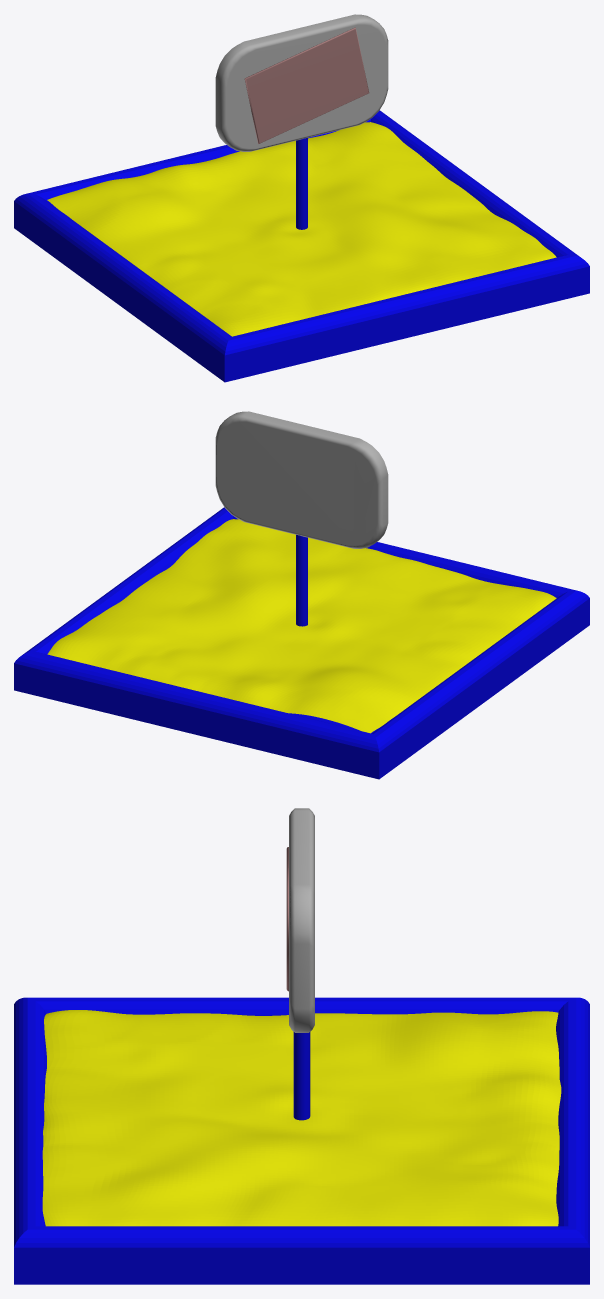
The model's file is Purchase_Bed 1.fbx.
3 views of the same model, one above another, from view 1: azimuth 30°, elevation 25°; view 2: azimuth 150°, elevation 25°; view 3: azimuth 270°, elevation 25° (orthographic). The views are drawn at different scales.
Visible parts, largest first — view 1: Bed_Dirt_HP:Bed_HPdirt, Bed_Dirt_HP:baseBed_HP, pCube1, pCube2, pCylinder1; view 2: Bed_Dirt_HP:Bed_HPdirt, Bed_Dirt_HP:baseBed_HP, pCube1, pCylinder1; view 3: Bed_Dirt_HP:Bed_HPdirt, Bed_Dirt_HP:baseBed_HP, pCube1, pCylinder1.
Boxes of the visible parts, x1,y1,x2,y2 form: Bed_Dirt_HP:Bed_HPdirt: [47, 122, 556, 336]; Bed_Dirt_HP:baseBed_HP: [14, 110, 589, 382]; pCube1: [215, 14, 388, 151]; pCube2: [244, 27, 369, 143]; pCylinder1: [296, 138, 307, 229]; Bed_Dirt_HP:Bed_HPdirt: [47, 519, 556, 733]; Bed_Dirt_HP:baseBed_HP: [14, 507, 589, 779]; pCube1: [215, 411, 388, 548]; pCylinder1: [296, 535, 307, 626]; Bed_Dirt_HP:Bed_HPdirt: [42, 1010, 561, 1226]; Bed_Dirt_HP:baseBed_HP: [14, 997, 589, 1284]; pCube1: [289, 808, 314, 1032]; pCylinder1: [293, 1032, 310, 1120].
Size of the model in its own units: 4.24 by 2.56 by 4.24.
